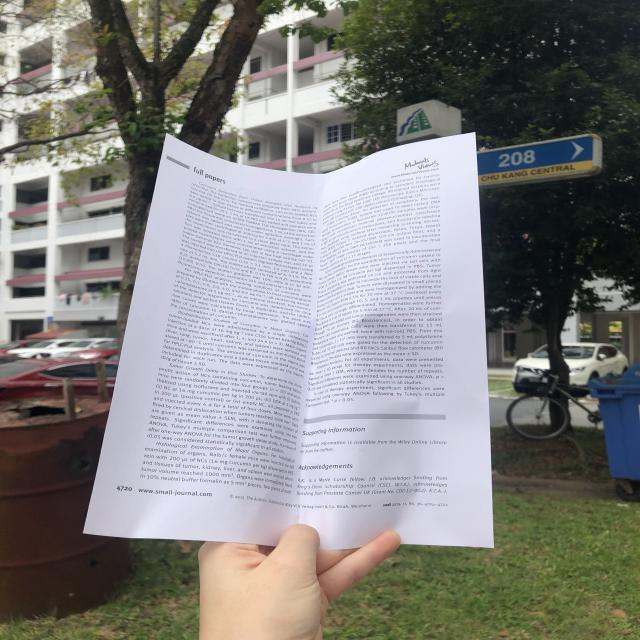document: (85, 134, 493, 549)
